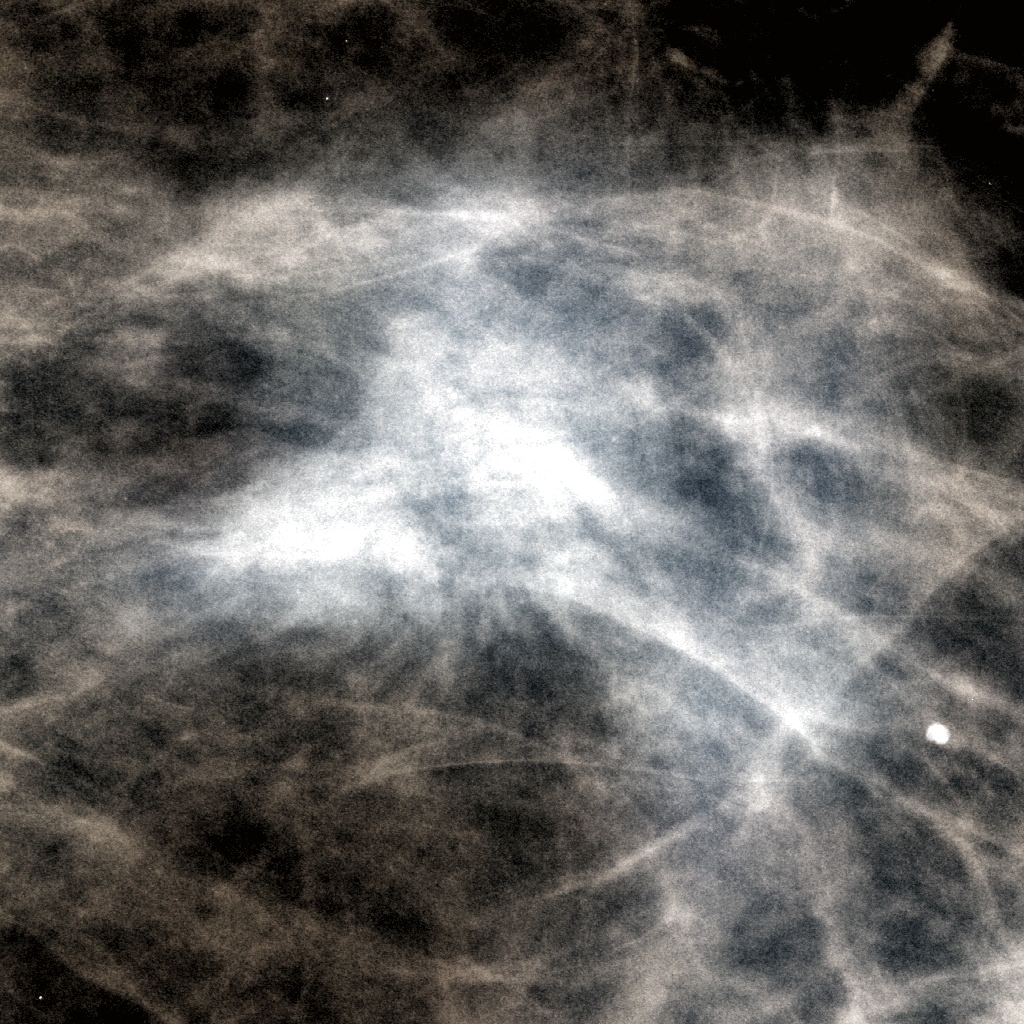tumor: (192, 325, 592, 699)
